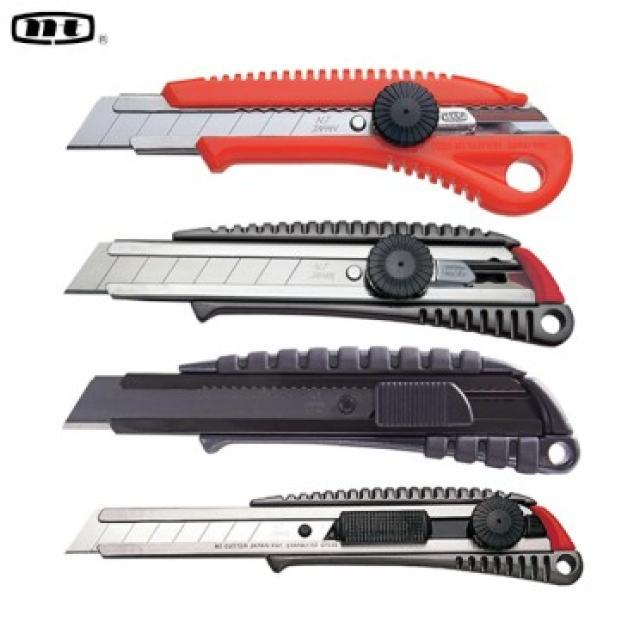cutter: (56, 64, 576, 222), (50, 343, 582, 484), (59, 216, 580, 356), (51, 484, 588, 604)
